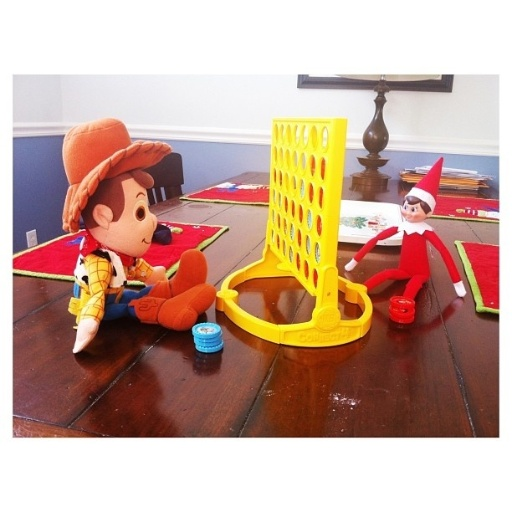hand: (71, 251, 112, 357), (144, 263, 167, 285)
